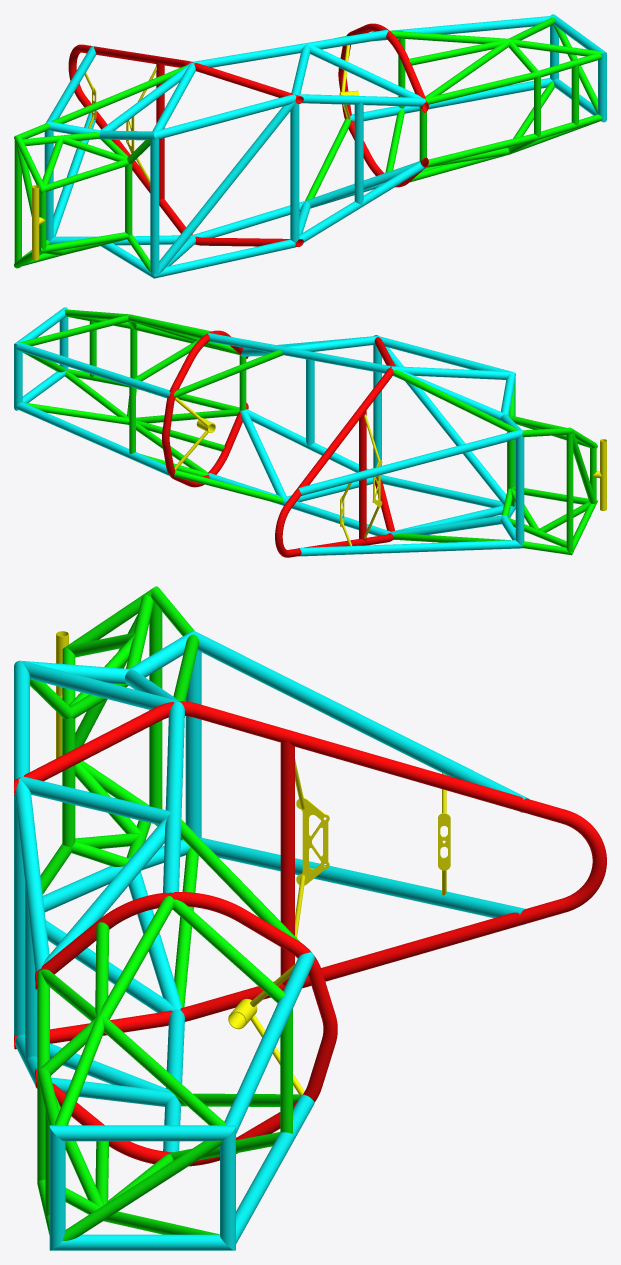
3 views of the same model, one above another, from view 1: azimuth 30°, elevation 25°; view 2: azimuth 150°, elevation 25°; view 3: azimuth 270°, elevation 25° (orthographic). The views are drawn at different scales.
Visible parts, largest first — view 1: PN-00192; view 2: PN-00192; view 3: PN-00192.
Boxes of the visible parts, left/top/right/bottom form: PN-00192: left=14, top=14, right=606, bottom=278; PN-00192: left=14, top=307, right=606, bottom=557; PN-00192: left=14, top=586, right=606, bottom=1250.
Size of the model in its own units: 2.32 by 0.7033 by 1.17.
